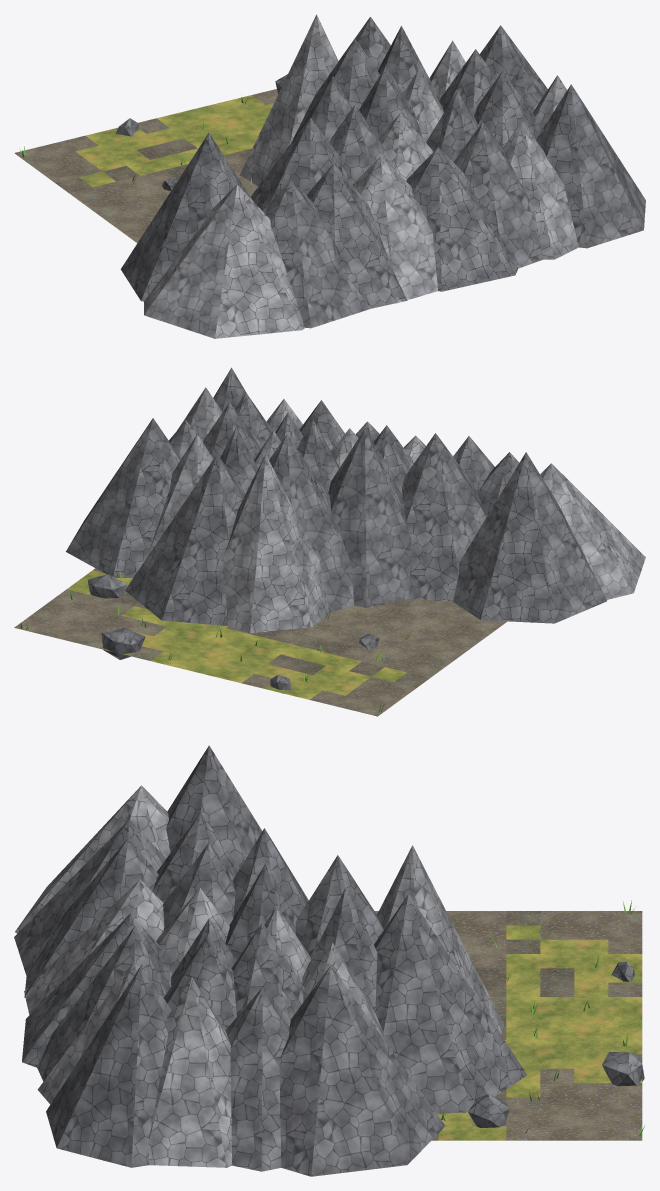
File: chunk_10_18.glb
3 renders of one model, top to bottom at view 1: azimuth 30°, elevation 25°; view 2: azimuth 150°, elevation 25°; view 3: azimuth 270°, elevation 25°, orthographic. The views are drawn at different scales.
Parts seen in each view (by area): view 1: chunk_10_18; view 2: chunk_10_18; view 3: chunk_10_18.
Part boxes in pixels (bbox=[...]): chunk_10_18: bbox=[14, 14, 645, 338]; chunk_10_18: bbox=[14, 367, 645, 716]; chunk_10_18: bbox=[14, 745, 644, 1176].
Size of the model in its own units: 21.42 by 6.73 by 18.62.
Materials: 6 (5 with a texture image).
